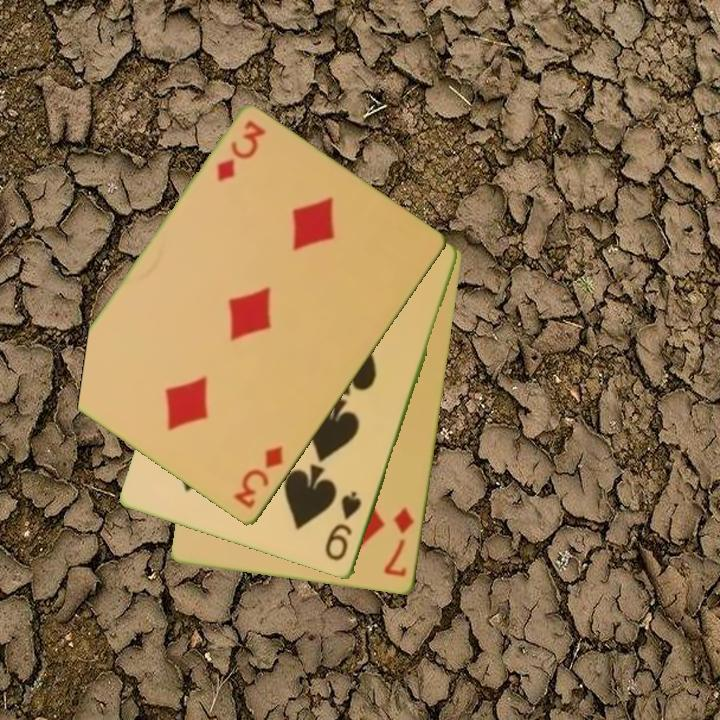3d: (230, 442, 287, 513), (213, 117, 269, 185)
7d: (381, 504, 417, 580)
9s: (321, 488, 365, 565)
